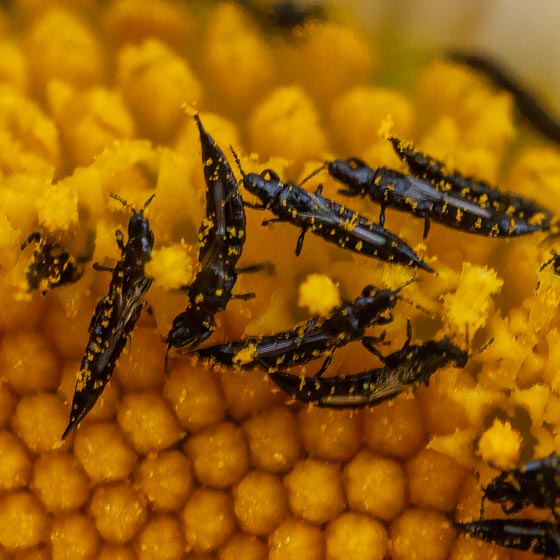Phlaeothripidae: (229, 149, 441, 285), (58, 183, 165, 444), (177, 268, 427, 371), (312, 153, 549, 248), (264, 317, 492, 415), (156, 113, 244, 351), (468, 461, 560, 515), (447, 519, 560, 559)
